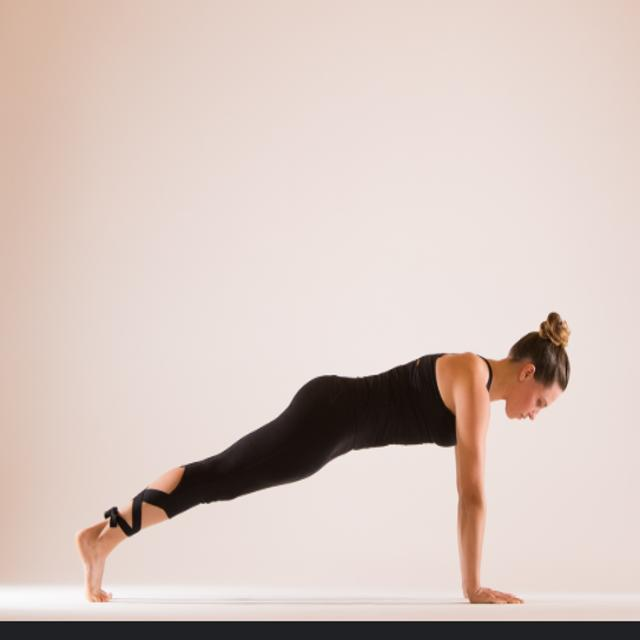Plank_Pose: (77, 312, 574, 606)
